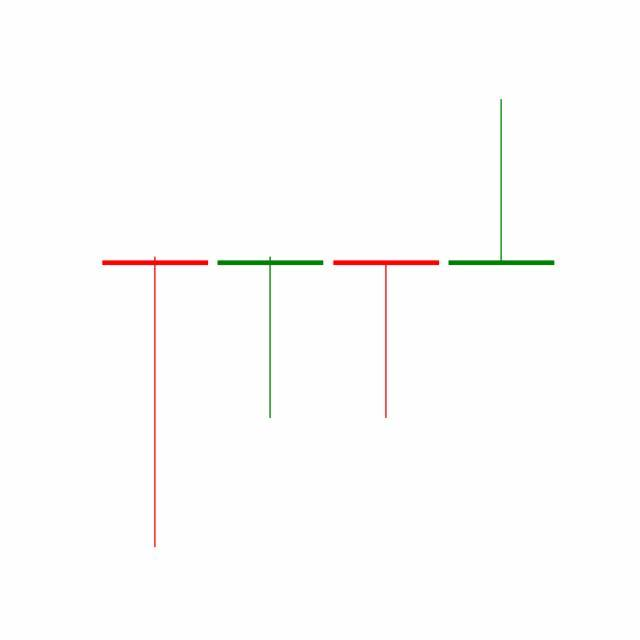Gravestone Doji: (444, 97, 560, 267)
